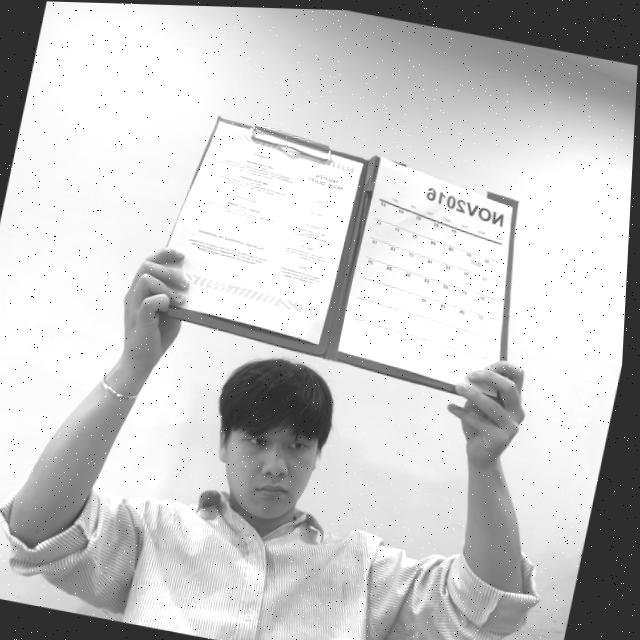document: (146, 122, 362, 344), (337, 157, 513, 398)
face: (182, 350, 332, 522)
